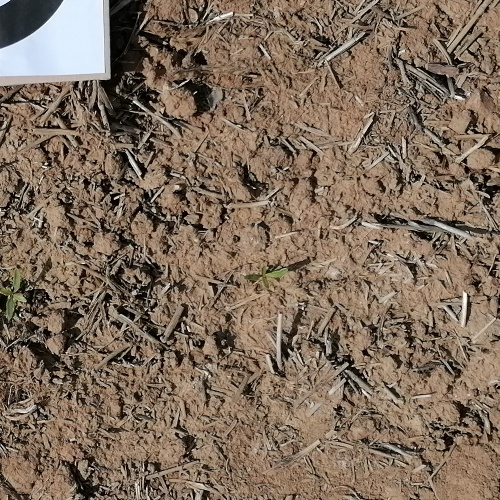beet: (0, 270, 27, 320), (244, 263, 289, 288)
